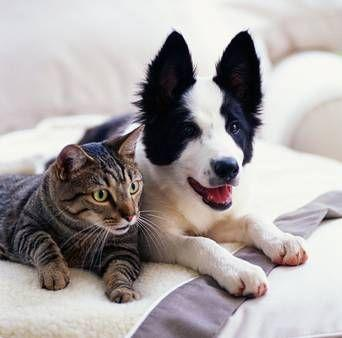kedo: (2, 124, 144, 303)
